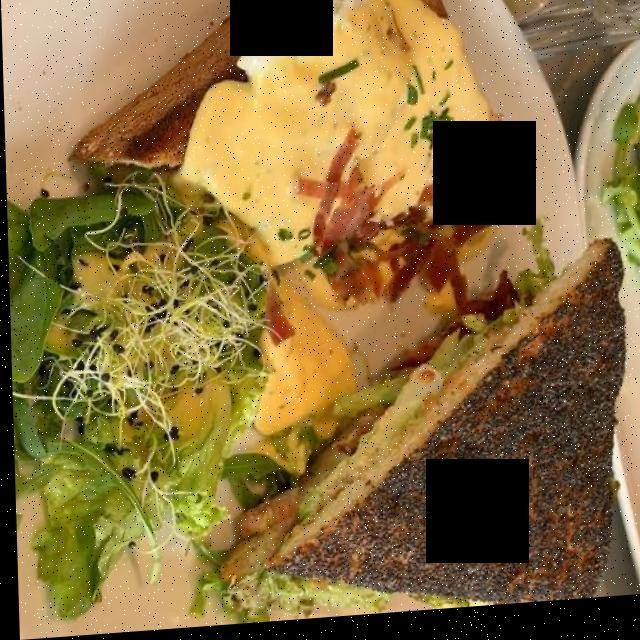bacon: (288, 124, 521, 345)
bread: (66, 0, 619, 600)
egg: (188, 0, 474, 250)
salad: (12, 194, 259, 567), (35, 218, 241, 524)
sprouts: (42, 214, 247, 461)
